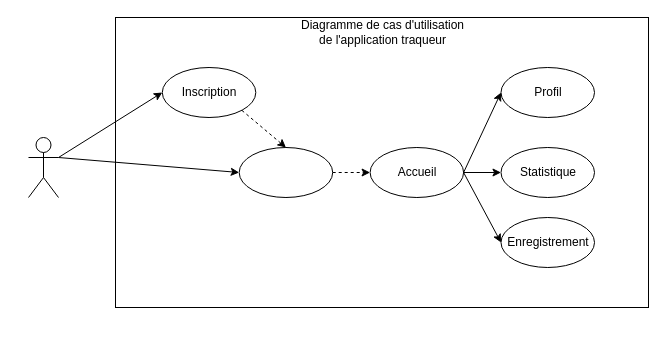
Image size: 666x340. Some labels were removed from this diagram. Each missing label, with the box of its shape:
Connexion: (238, 146, 333, 198)
Utilisateur: (28, 136, 58, 198)
